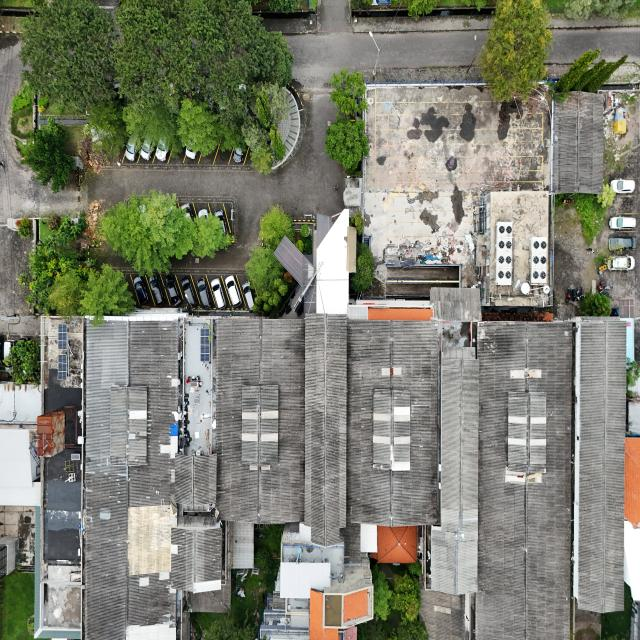Tree: (323, 110, 378, 178), (174, 98, 232, 155), (5, 329, 44, 384), (258, 201, 298, 243)
